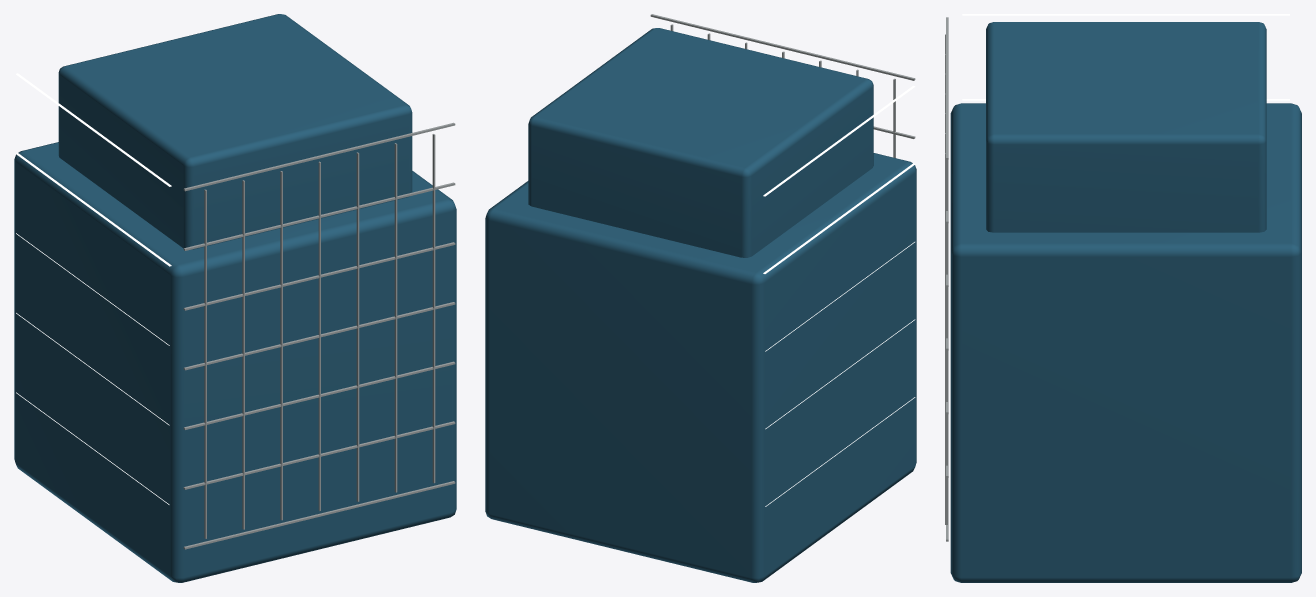
File: hf-blue-sky-tower-study.glb
The picture shows the model from 3 angles, left to right: view 1: azimuth 30°, elevation 25°; view 2: azimuth 150°, elevation 25°; view 3: azimuth 270°, elevation 25°; orthographic projection. The views are drawn at different scales.
Visible parts, largest first — view 1: BLUE_SKY_TOWER_BASE, BLUESKY_HORIZ_FLOOR_BAND, BLUESKY_CORNER_LIGHTLINE; view 2: BLUE_SKY_TOWER_BASE, BLUESKY_CORNER_LIGHTLINE, BLUESKY_HORIZ_FLOOR_BAND; view 3: BLUE_SKY_TOWER_BASE, BLUESKY_HORIZ_FLOOR_BAND, BLUESKY_CORNER_LIGHTLINE.
Boxes of the visible parts, x1,y1,x2,y2 form: BLUE_SKY_TOWER_BASE: (14,14,456,582); BLUESKY_HORIZ_FLOOR_BAND: (183,122,455,549); BLUESKY_CORNER_LIGHTLINE: (16,73,171,504); BLUE_SKY_TOWER_BASE: (485,28,916,582); BLUESKY_CORNER_LIGHTLINE: (763,85,915,506); BLUESKY_HORIZ_FLOOR_BAND: (650,14,915,157); BLUE_SKY_TOWER_BASE: (950,22,1301,582); BLUESKY_HORIZ_FLOOR_BAND: (945,17,948,541); BLUESKY_CORNER_LIGHTLINE: (962,14,1289,100).
Bounding box in the file's own units: 15.01 × 20.5 × 15.24.
